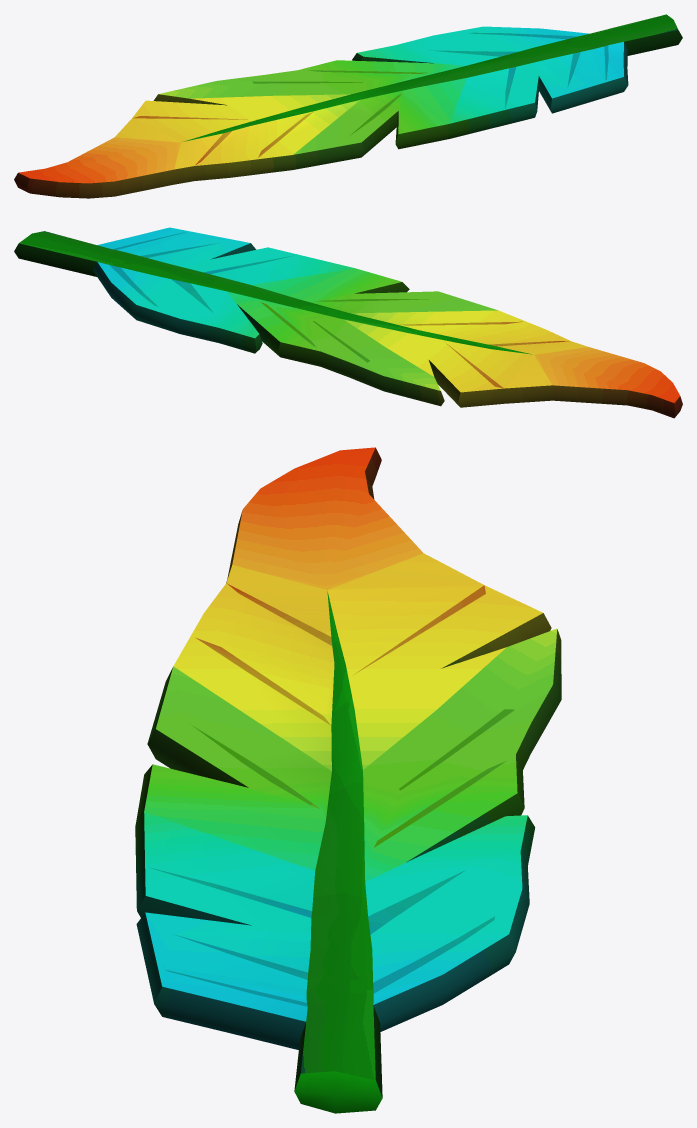
The model's file is Feather.glb.
3 renders of one model, top to bottom at view 1: azimuth 30°, elevation 25°; view 2: azimuth 150°, elevation 25°; view 3: azimuth 270°, elevation 25°, orthographic. The views are drawn at different scales.
Visible parts, largest first — view 1: Feather; view 2: Feather; view 3: Feather.
Part boxes in pixels (x1,y1,x2,y2): Feather: (14, 14, 682, 198); Feather: (14, 227, 682, 418); Feather: (135, 447, 561, 1113).
Bounding box in the file's own units: 14.74 × 0.4553 × 4.16.
Materials: 1 (1 with a texture image).
